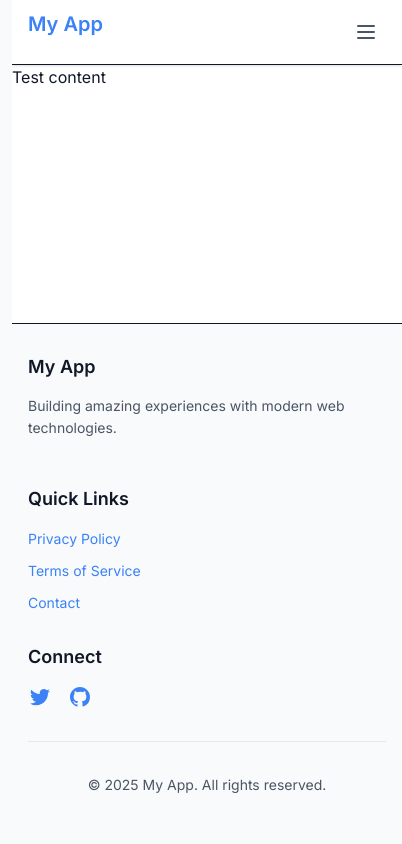
Test case: Layout Component › Header Functionality › should handle mobile menu toggle
The width and height of the screenshot is (402, 844).
Note: Test menu toggle
Click the button named "toggle navigation menu". click: (366, 32)
box: [346,12,386,52]
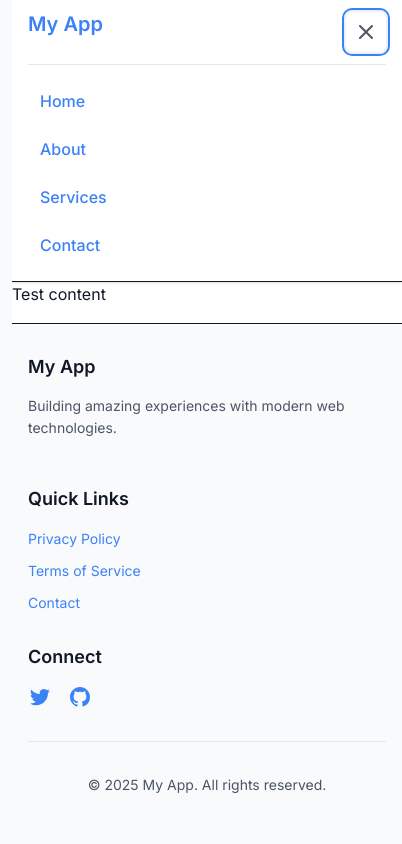
Check: the button named "toggle navigation menu" is expanded, box [346,12,386,52]
